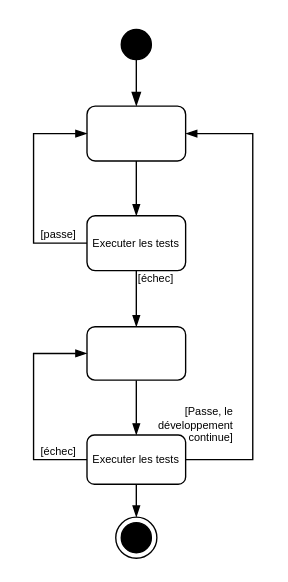
The diagram is 288 pixels wide and 582 high, and some of its shapes have lost their labels. The box of each missing label's shape, as (x1, y1, x2, y2) in pixels:
Ajouter un test: (86, 105, 186, 161)
Faire un petit changement: (86, 325, 186, 380)
